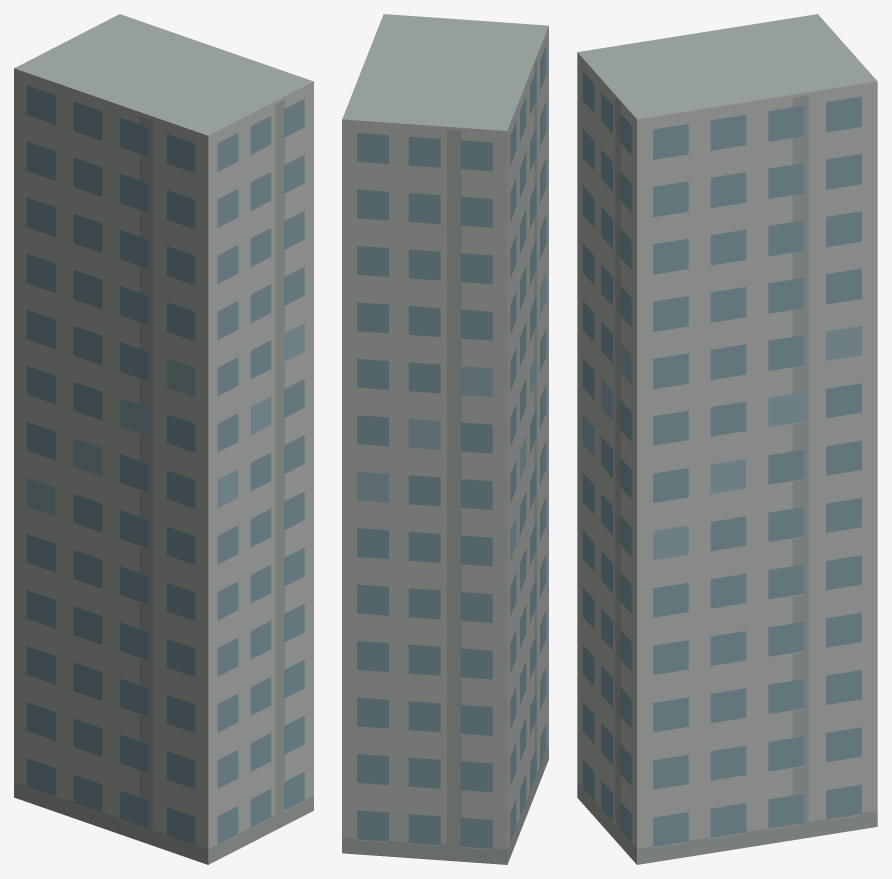
Rendered from residential-bf4b1384-38ff-40a5-aecf-67eb1e1847c9.glb.
The picture shows the model from 3 angles, left to right: view 1: azimuth 30°, elevation 25°; view 2: azimuth 150°, elevation 25°; view 3: azimuth 270°, elevation 25°; orthographic projection. The views are drawn at different scales.
Visible parts, largest first — view 1: residential-bf4b1384-38ff-40a5-aecf-67eb1e1847c9.tmp; view 2: residential-bf4b1384-38ff-40a5-aecf-67eb1e1847c9.tmp; view 3: residential-bf4b1384-38ff-40a5-aecf-67eb1e1847c9.tmp.
Boxes of the visible parts, <box> form: residential-bf4b1384-38ff-40a5-aecf-67eb1e1847c9.tmp: <box>14,14,313,864</box>; residential-bf4b1384-38ff-40a5-aecf-67eb1e1847c9.tmp: <box>342,14,548,864</box>; residential-bf4b1384-38ff-40a5-aecf-67eb1e1847c9.tmp: <box>577,14,877,864</box>.
Bounding box in the file's own units: 17.3 × 57 × 20.82.
